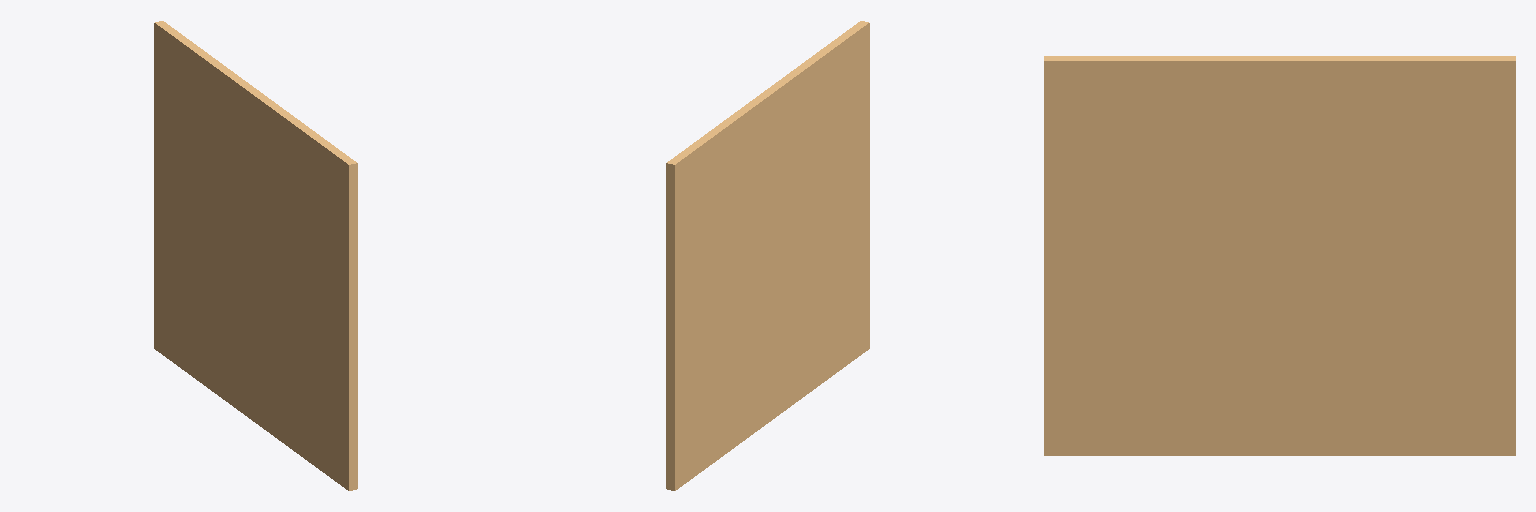
The robot description file, URDF, robot "room610-cabinet-mamoru":
<?xml version="1.0"?>
<robot name="room610-cabinet-mamoru"
       xmlns:xi="http://www.w3.org/2001/XInclude"
       xmlns:gazebo="http://playerstage.sourceforge.net/gazebo/xmlschema/#gz"
       xmlns:model="http://playerstage.sourceforge.net/gazebo/xmlschema/#model"
       xmlns:sensor="http://playerstage.sourceforge.net/gazebo/xmlschema/#sensor"
       xmlns:body="http://playerstage.sourceforge.net/gazebo/xmlschema/#body"
       xmlns:geom="http://playerstage.sourceforge.net/gazebo/xmlschema/#geom"
       xmlns:joint="http://playerstage.sourceforge.net/gazebo/xmlschema/#joint"
       xmlns:interface="http://playerstage.sourceforge.net/gazebo/xmlschema/#interface"
       xmlns:rendering="http://playerstage.sourceforge.net/gazebo/xmlschema/#rendering"
       xmlns:renderable="http://playerstage.sourceforge.net/gazebo/xmlschema/#renderable"
       xmlns:controller="http://playerstage.sourceforge.net/gazebo/xmlschema/#controller"
       xmlns:physics="http://playerstage.sourceforge.net/gazebo/xmlschema/#physics">
  <gazebo>
    <static>false</static>
  </gazebo>
  <link name="ROOT_link">
    <visual>
      <origin xyz="0 0 0" rpy="0 -0 0"/>
      <geometry>
        <mesh filename="model://room610-cabinet-mamoru/meshes/ROOT_link_mesh.dae" scale="1 1 1" />
      </geometry>
    </visual>
    <collision>
      <origin xyz="0 0 0" rpy="0 -0 0"/>
      <geometry>
        <mesh filename="model://room610-cabinet-mamoru/meshes/ROOT_link_mesh.dae" scale="1 1 1" />
      </geometry>
    </collision>
    <inertial>
      <mass value="0.001" />
      <origin xyz="0 0 0" rpy="0 -0 0"/>
      <inertia ixx="1e-09" ixy="0" ixz="0" iyy="1e-09" iyz="0" izz="1e-09"/>
    </inertial>
  </link>
  <gazebo reference="ROOT_link">
    <mu1>0.9</mu1>
    <mu2>0.9</mu2>
  </gazebo>
  <link name="ROOM610-CABINET-MAMORU-BODYSET3_link">
    <visual>
      <origin xyz="0.157 0.39 0.01" rpy="0 -0 0"/>
      <geometry>
        <mesh filename="model://room610-cabinet-mamoru/meshes/ROOM610-CABINET-MAMORU-BODYSET3_link_mesh.dae" scale="1 1 1" />
      </geometry>
    </visual>
    <collision>
      <origin xyz="0.157 0.39 0.01" rpy="0 -0 0"/>
      <geometry>
        <mesh filename="model://room610-cabinet-mamoru/meshes/ROOM610-CABINET-MAMORU-BODYSET3_link_mesh.dae" scale="1 1 1" />
      </geometry>
    </collision>
    <inertial>
      <mass value="0.001" />
      <origin xyz="0 0 0" rpy="0 -0 0"/>
      <inertia ixx="1e-09" ixy="0" ixz="0" iyy="1e-09" iyz="0" izz="1e-09"/>
    </inertial>
  </link>
  <gazebo reference="ROOM610-CABINET-MAMORU-BODYSET3_link">
    <mu1>0.9</mu1>
    <mu2>0.9</mu2>
  </gazebo>
  <link name="ROOM610-CABINET-MAMORU-BODYSET2_link">
    <visual>
      <origin xyz="0.157 -0.39 0.01" rpy="0 -0 0"/>
      <geometry>
        <mesh filename="model://room610-cabinet-mamoru/meshes/ROOM610-CABINET-MAMORU-BODYSET2_link_mesh.dae" scale="1 1 1" />
      </geometry>
    </visual>
    <collision>
      <origin xyz="0.157 -0.39 0.01" rpy="0 -0 0"/>
      <geometry>
        <mesh filename="model://room610-cabinet-mamoru/meshes/ROOM610-CABINET-MAMORU-BODYSET2_link_mesh.dae" scale="1 1 1" />
      </geometry>
    </collision>
    <inertial>
      <mass value="0.001" />
      <origin xyz="0 0 0" rpy="0 -0 0"/>
      <inertia ixx="1e-09" ixy="0" ixz="0" iyy="1e-09" iyz="0" izz="1e-09"/>
    </inertial>
  </link>
  <gazebo reference="ROOM610-CABINET-MAMORU-BODYSET2_link">
    <mu1>0.9</mu1>
    <mu2>0.9</mu2>
  </gazebo>
  <joint name="DOOR-UPPER-LEFT" type="revolute">
    <parent link="ROOT_link"/>
    <child  link="ROOM610-CABINET-MAMORU-BODYSET3_link"/>
    <origin xyz="0.157 0.39 0.01" rpy="0 -0 0 "/>
    <axis   xyz="0 0 1"/>
    <limit lower="0" upper="1.5708" effort="100" velocity="0.5" />
    <dynamics damping="0.2" friction="0" />
  </joint>
  <transmission type="pr2_mechanism_model/SimpleTransmission" name="DOOR-UPPER-LEFT_trans" >
    <actuator name="DOOR-UPPER-LEFT_motor" />
    <joint name="DOOR-UPPER-LEFT" />
    <mechanicalReduction>1</mechanicalReduction>
  </transmission>
  <gazebo reference="DOOR-UPPER-LEFT">
    <cfmDamping>0.4</cfmDamping>
  </gazebo>
  <joint name="DOOR-UPPER-RIGHT" type="revolute">
    <parent link="ROOT_link"/>
    <child  link="ROOM610-CABINET-MAMORU-BODYSET2_link"/>
    <origin xyz="0.157 -0.39 0.01" rpy="0 -0 0 "/>
    <axis   xyz="0 0 -1"/>
    <limit lower="0" upper="1.5708" effort="100" velocity="0.5" />
    <dynamics damping="0.2" friction="0" />
  </joint>
  <transmission type="pr2_mechanism_model/SimpleTransmission" name="DOOR-UPPER-RIGHT_trans" >
    <actuator name="DOOR-UPPER-RIGHT_motor" />
    <joint name="DOOR-UPPER-RIGHT" />
    <mechanicalReduction>1</mechanicalReduction>
  </transmission>
  <gazebo reference="DOOR-UPPER-RIGHT">
    <cfmDamping>0.4</cfmDamping>
  </gazebo>
</robot>

--- What the picture shows (computed from the rendered views, not written in the file) ---
The picture shows the robot from 3 angles, left to right: view 1: azimuth 30°, elevation 25°; view 2: azimuth 150°, elevation 25°; view 3: azimuth 270°, elevation 25°; orthographic projection.
Model room610-cabinet-mamoru with 3 links and 2 joints (2 revolute), rooted at ROOT_link, posed all joints at 0.
Links seen in each view (by area): view 1: ROOM610-CABINET-MAMORU-BODYSET2_link, ROOM610-CABINET-MAMORU-BODYSET3_link; view 2: ROOM610-CABINET-MAMORU-BODYSET3_link, ROOM610-CABINET-MAMORU-BODYSET2_link; view 3: ROOM610-CABINET-MAMORU-BODYSET3_link, ROOM610-CABINET-MAMORU-BODYSET2_link.
Link boxes in pixels (x1=…): ROOM610-CABINET-MAMORU-BODYSET2_link: x1=252, y1=92, x2=357, y2=490; ROOM610-CABINET-MAMORU-BODYSET3_link: x1=154, y1=21, x2=259, y2=419; ROOM610-CABINET-MAMORU-BODYSET3_link: x1=666, y1=92, x2=771, y2=490; ROOM610-CABINET-MAMORU-BODYSET2_link: x1=764, y1=21, x2=869, y2=419; ROOM610-CABINET-MAMORU-BODYSET3_link: x1=1280, y1=56, x2=1515, y2=455; ROOM610-CABINET-MAMORU-BODYSET2_link: x1=1044, y1=56, x2=1279, y2=455.
Bounding box of the posed robot: 0.02 × 0.8 × 0.74 m (x, y, z).
2 mesh visuals loaded from 3 distinct referenced files (2 Collada DAE); not drawn: 1 (reference not matched to a file when rendering).
